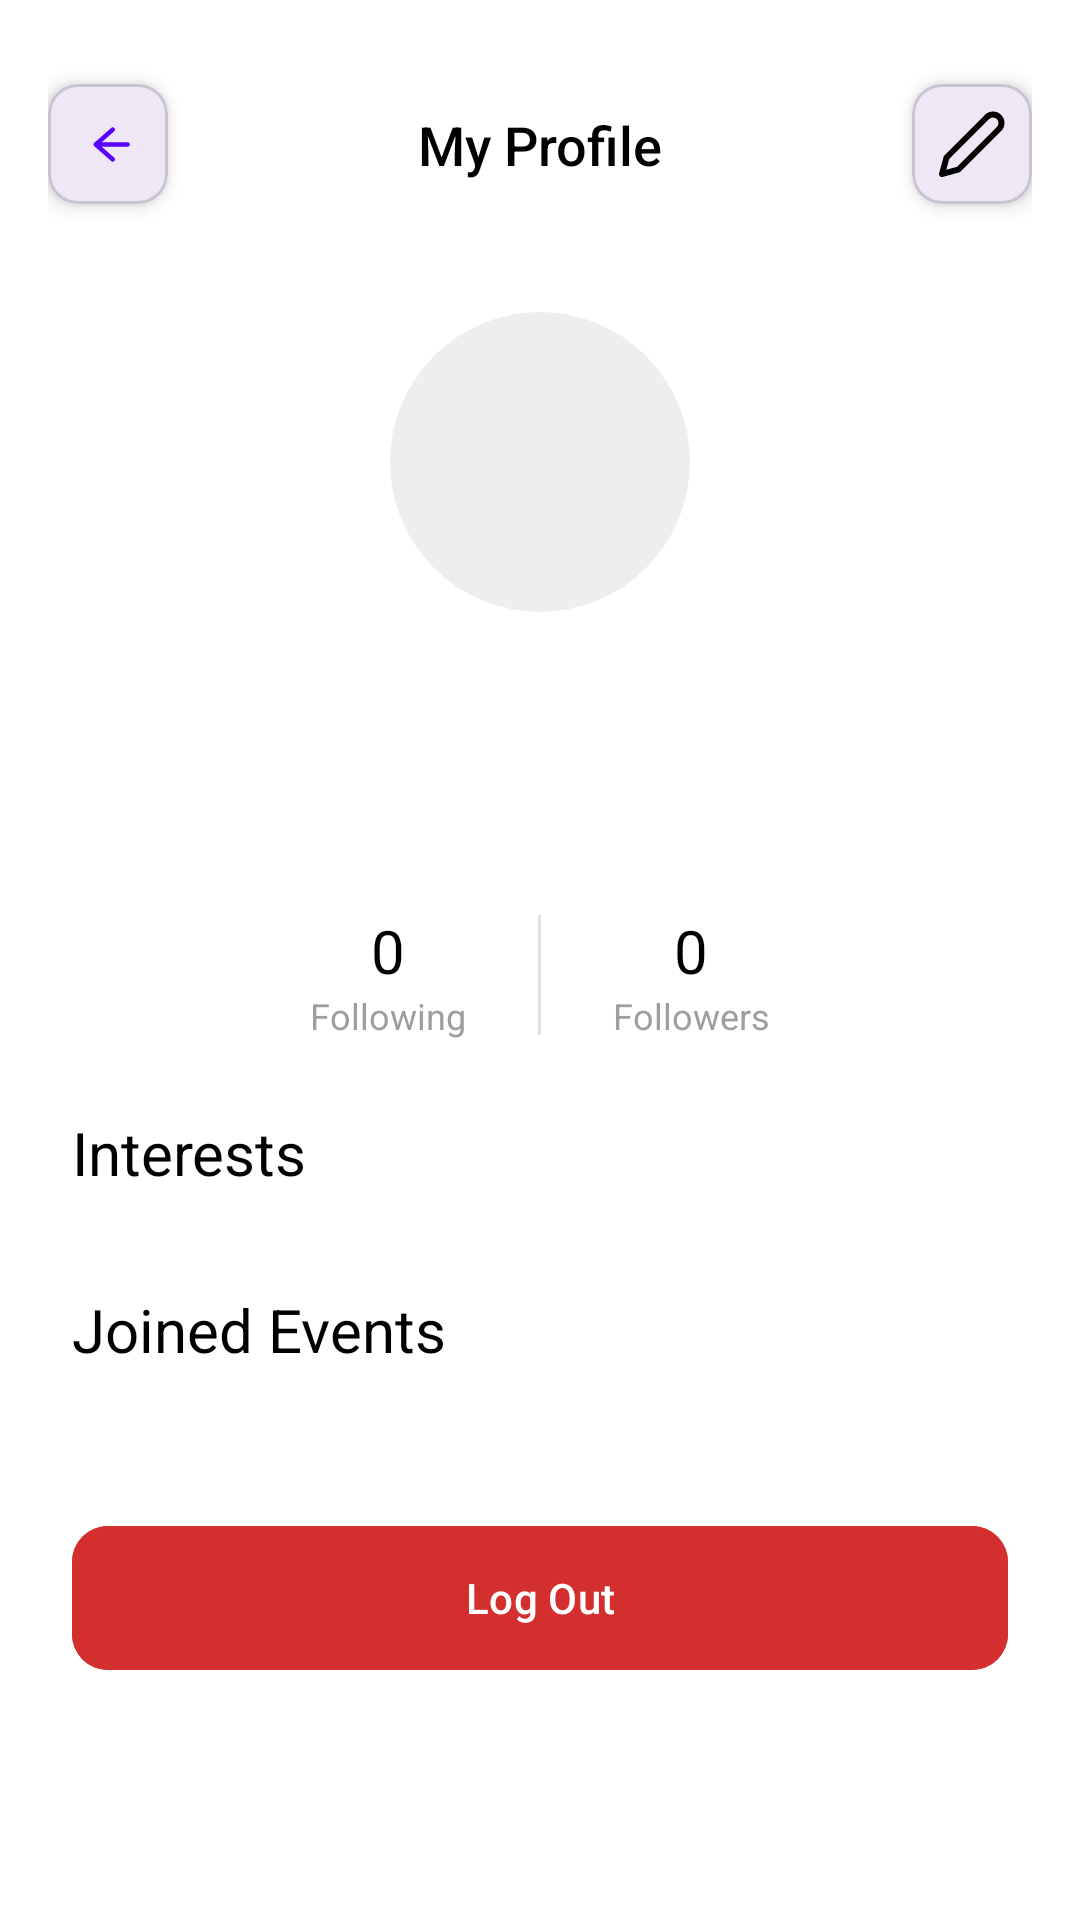

Screen size 1080px x 1920px. Icon name, then its box in pixels as region(x1, y1, x2, y2):
Back: region(48, 84, 168, 204)
Edit Profile: region(912, 84, 1032, 204)
